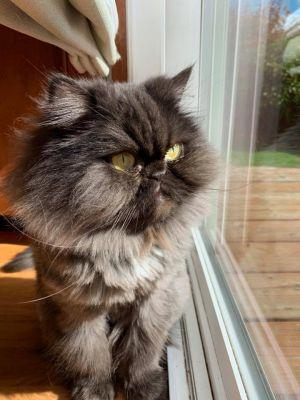persian: (22, 61, 202, 243)
